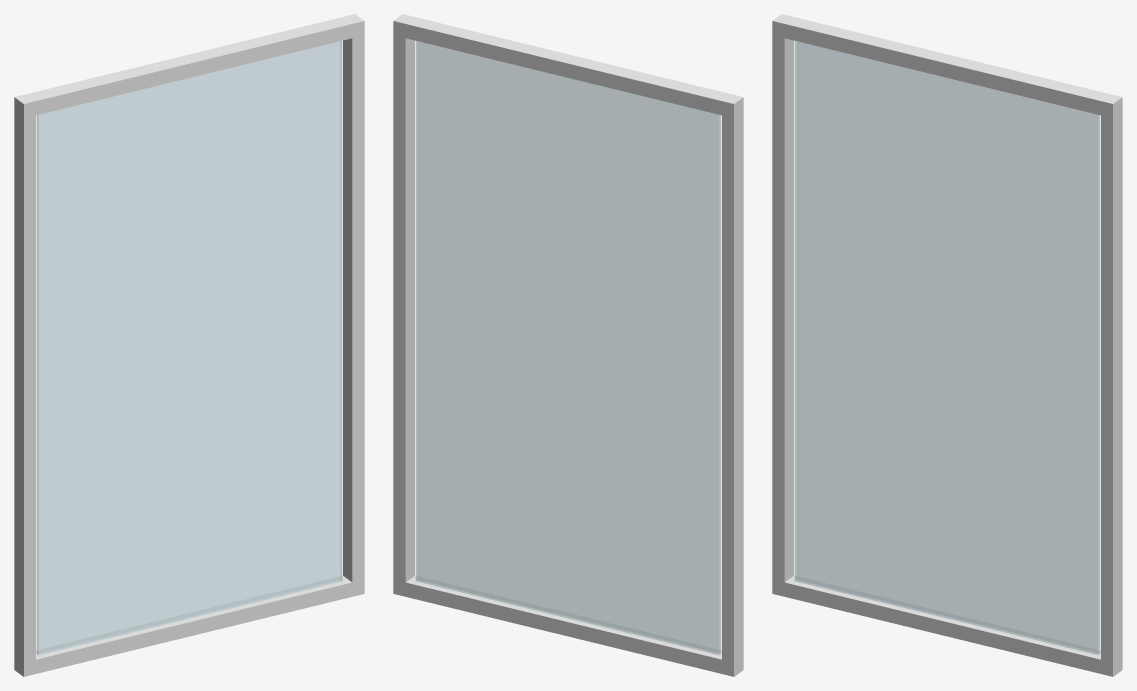
Rendered from division-blanco-claro.glb.
3 renders of one model, left to right at view 1: azimuth 30°, elevation 25°; view 2: azimuth 150°, elevation 25°; view 3: azimuth 330°, elevation 25°, orthographic.
Visible parts, largest first — view 1: glass, post-0.6, post0.6, rail1.975, rail0.025; view 2: glass, post-0.6, post0.6, rail1.975, rail0.025; view 3: glass, post0.6, post-0.6, rail1.975, rail0.025.
Part boxes in pixels (x1,y1,x2,y2): glass: (36, 41, 342, 654); post-0.6: (14, 94, 35, 676); post0.6: (343, 14, 364, 596); rail1.975: (21, 17, 357, 116); rail0.025: (36, 575, 354, 673); glass: (415, 41, 721, 654); post-0.6: (722, 94, 743, 676); post0.6: (393, 14, 414, 596); rail1.975: (399, 17, 736, 116); rail0.025: (402, 575, 727, 673); glass: (794, 41, 1100, 654); post0.6: (1101, 94, 1122, 676); post-0.6: (772, 14, 793, 596); rail1.975: (778, 17, 1115, 116); rail0.025: (781, 575, 1106, 673).
Bounding box in the file's own units: 1.25 × 2 × 0.06.
